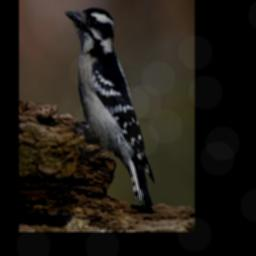Woodpecker: (65, 4, 156, 216)
